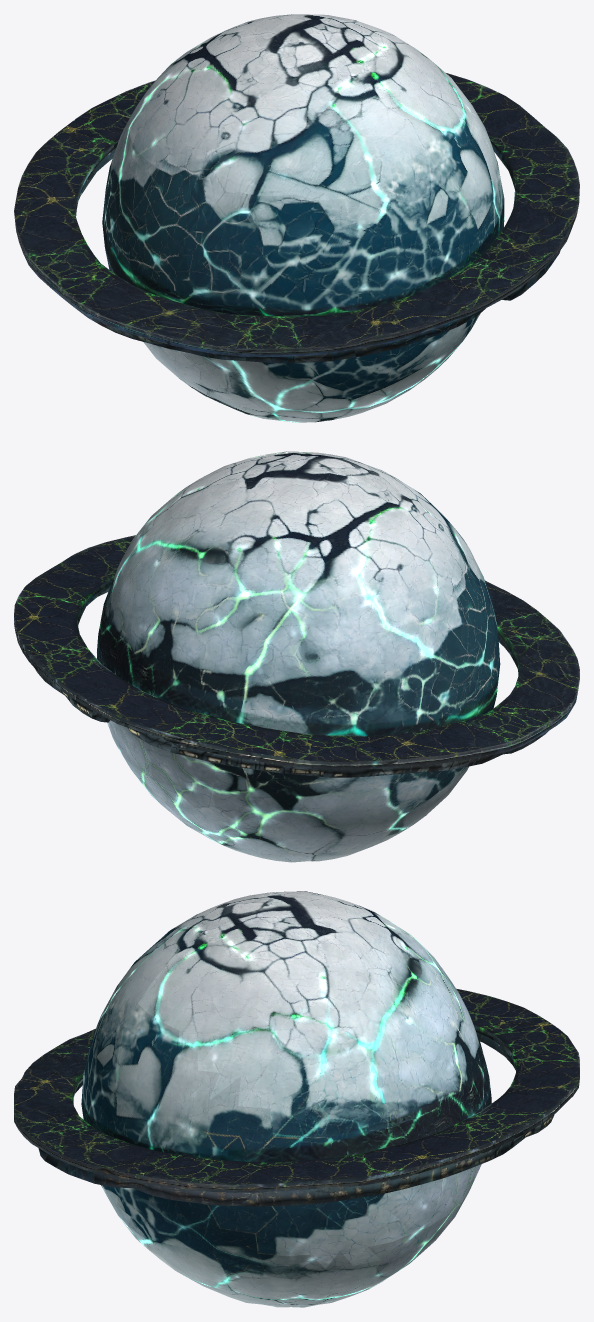
File: 019fde80-6581-7e7e-879f-eee203bf0e65.glb
3 views of the same model, one above another, from view 1: azimuth 30°, elevation 25°; view 2: azimuth 150°, elevation 25°; view 3: azimuth 270°, elevation 25° (orthographic).
Parts seen in each view (by area): view 1: mesh_node; view 2: mesh_node; view 3: mesh_node.
Part boxes in pixels (bbox=[...]): mesh_node: bbox=[14, 14, 579, 422]; mesh_node: bbox=[14, 451, 579, 862]; mesh_node: bbox=[14, 891, 579, 1307].
Size of the model in its own units: 1 by 0.7402 by 1.
1 material, 1 textured.
